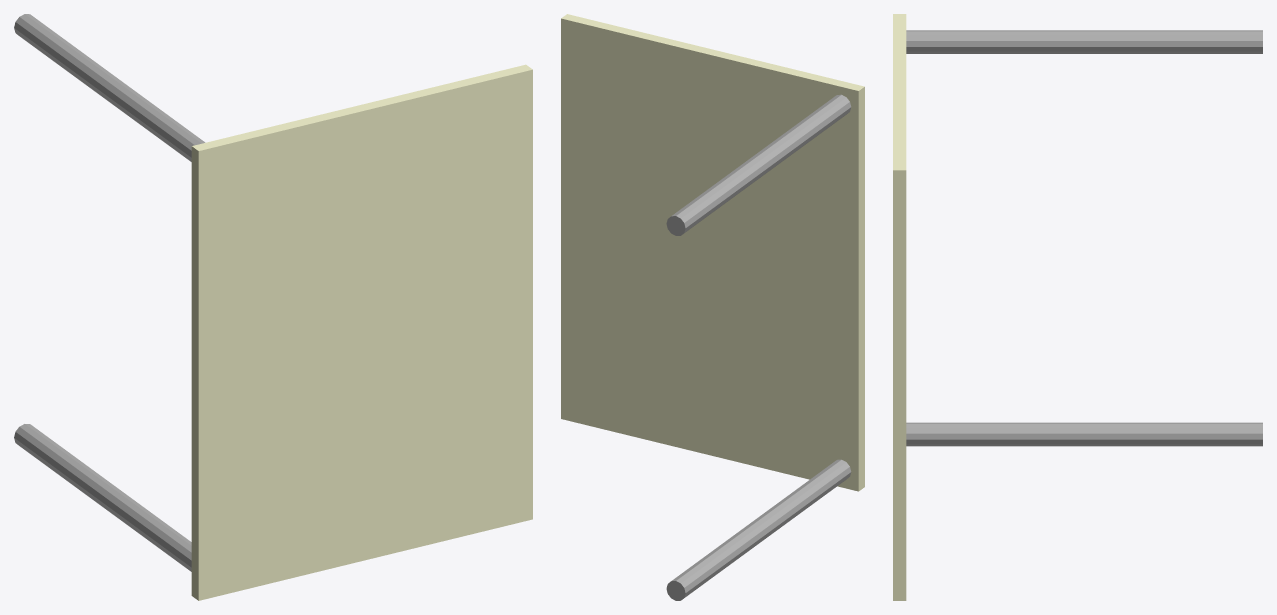
The model's file is nil_link_mesh.dae.
The picture shows the model from 3 angles, left to right: view 1: azimuth 30°, elevation 25°; view 2: azimuth 150°, elevation 25°; view 3: azimuth 270°, elevation 25°; orthographic projection. The views are drawn at different scales.
Parts seen in each view (by area): view 1: nil_link (×3); view 2: nil_link (×3); view 3: nil_link (×3).
Boxes of the visible parts, bbox=[...] form: nil_link (×3): bbox=[14, 14, 532, 600]; nil_link (×3): bbox=[561, 14, 864, 600]; nil_link (×3): bbox=[893, 14, 1262, 600].
Size of the model in its own units: 0.7 by 0.9 by 0.7.
